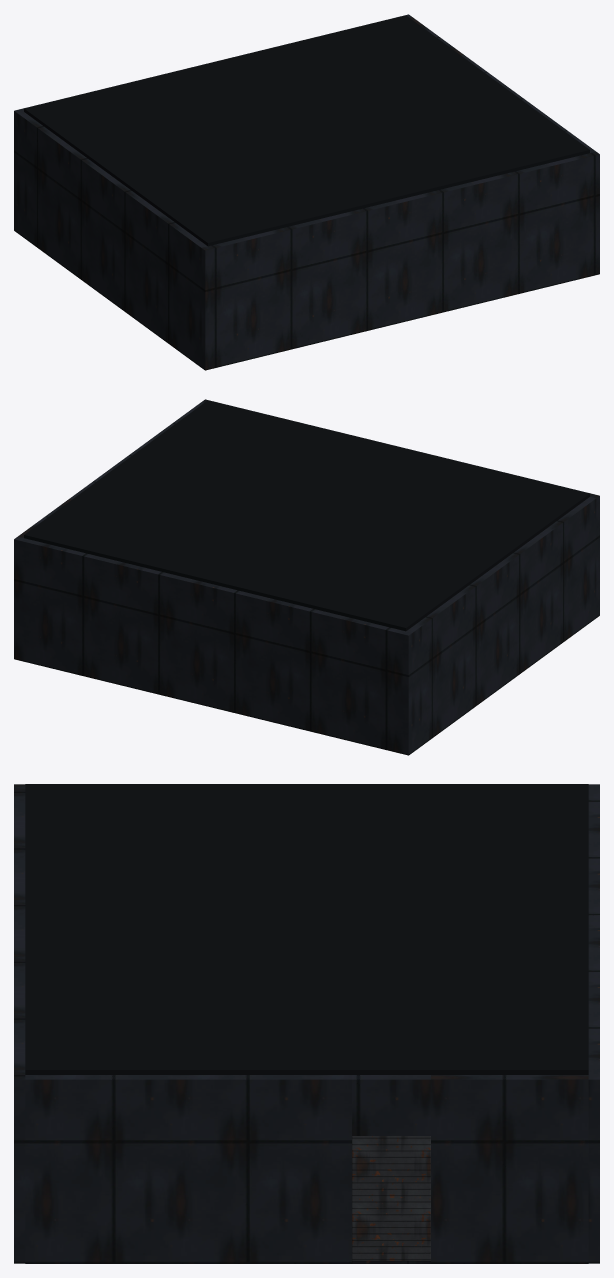
Rendered from ch1-room.glb.
The picture shows the model from 3 angles, top to bottom: view 1: azimuth 30°, elevation 25°; view 2: azimuth 150°, elevation 25°; view 3: azimuth 270°, elevation 25°; orthographic projection. The views are drawn at different scales.
Visible parts, largest first — view 1: ceiling, wall_front, wall_left, wall_back; view 2: ceiling, wall_back, wall_left, wall_front; view 3: ceiling, wall_right_a, wall_right_b, door_panel, wall_back, wall_front, wall_right_c, floor.
Boxes of the visible parts, box(x1,y1,x2,y2) form: ceiling: box(24, 15, 589, 246); wall_front: box(201, 151, 599, 370); wall_left: box(17, 112, 207, 367); wall_back: box(14, 14, 411, 232); ceiling: box(24, 400, 589, 631); wall_back: box(14, 536, 412, 755); wall_left: box(406, 497, 596, 752); wall_front: box(202, 399, 599, 617); ceiling: box(25, 784, 588, 1074); wall_right_a: box(25, 1075, 351, 1263); wall_right_b: box(431, 1075, 588, 1263); door_panel: box(352, 1136, 430, 1260); wall_back: box(588, 784, 599, 1263); wall_front: box(14, 784, 25, 1263); wall_right_c: box(352, 1075, 430, 1135); floor: box(25, 1260, 588, 1263).
Size of the model in its own units: 12.4 by 3.8 by 10.4.
20 materials, 5 textured.
